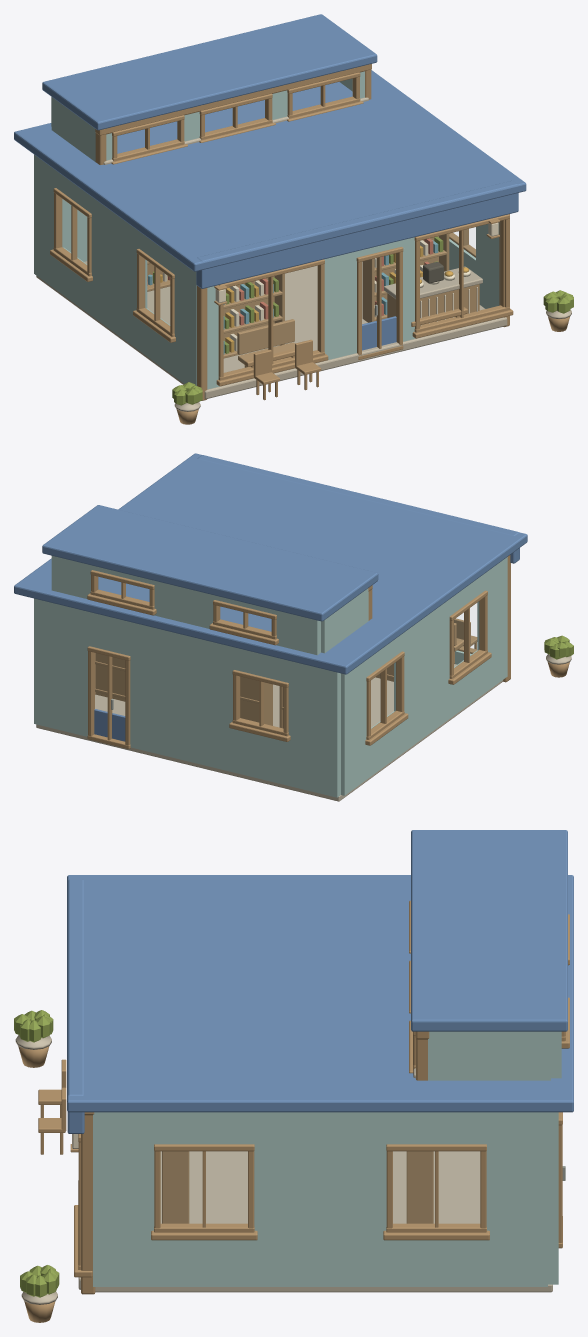
3 renders of one model, top to bottom at view 1: azimuth 30°, elevation 25°; view 2: azimuth 150°, elevation 25°; view 3: azimuth 270°, elevation 25°, orthographic. The views are drawn at different scales.
Visible parts, largest first — view 1: SM_13_02_曲面屋顶, SM_13_01_建筑墙体, SM_13_04_门窗楼梯, SM_13_06_景观设施, SM_13_03_木构回廊, SM_13_05_景观植物; view 2: SM_13_01_建筑墙体, SM_13_02_曲面屋顶, SM_13_04_门窗楼梯, SM_13_06_景观设施, SM_13_05_景观植物, SM_13_03_木构回廊; view 3: SM_13_02_曲面屋顶, SM_13_01_建筑墙体, SM_13_04_门窗楼梯, SM_13_06_景观设施, SM_13_05_景观植物, SM_13_03_木构回廊.
Part boxes in pixels (box(x1,y1,x2,y2)): SM_13_02_曲面屋顶: box(14, 14, 526, 288); SM_13_01_建筑墙体: box(34, 71, 507, 398); SM_13_04_门窗楼梯: box(50, 72, 513, 386); SM_13_06_景观设施: box(147, 233, 482, 400); SM_13_03_木构回廊: box(95, 64, 509, 400); SM_13_05_景观植物: box(172, 290, 573, 424); SM_13_01_建筑墙体: box(34, 556, 507, 801); SM_13_02_曲面屋顶: box(14, 453, 527, 674); SM_13_04_门窗楼梯: box(87, 570, 491, 748); SM_13_06_景观设施: box(95, 618, 477, 728); SM_13_05_景观植物: box(544, 635, 573, 677); SM_13_03_木构回廊: box(368, 555, 510, 682); SM_13_02_曲面屋顶: box(67, 830, 573, 1133); SM_13_01_建筑墙体: box(78, 1031, 561, 1292); SM_13_04_门窗楼梯: box(70, 900, 569, 1277); SM_13_06_景观设施: box(38, 1059, 433, 1223); SM_13_05_景观植物: box(14, 1010, 59, 1322); SM_13_03_木构回廊: box(81, 1031, 429, 1294).
Size of the model in its own units: 10.72 by 4.84 by 9.28.
